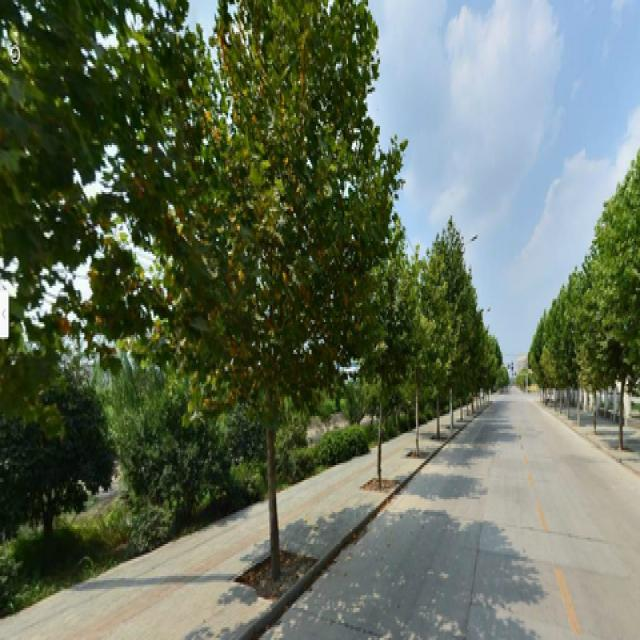meta: (218, 36, 354, 578), (371, 247, 409, 488)
